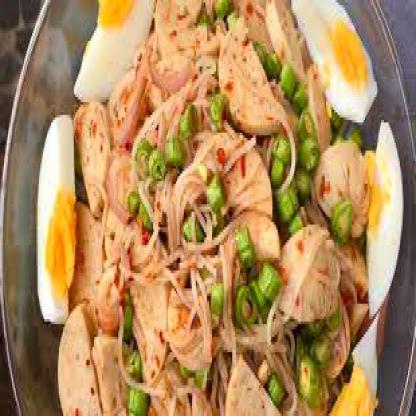Yum: (18, 0, 395, 414)
